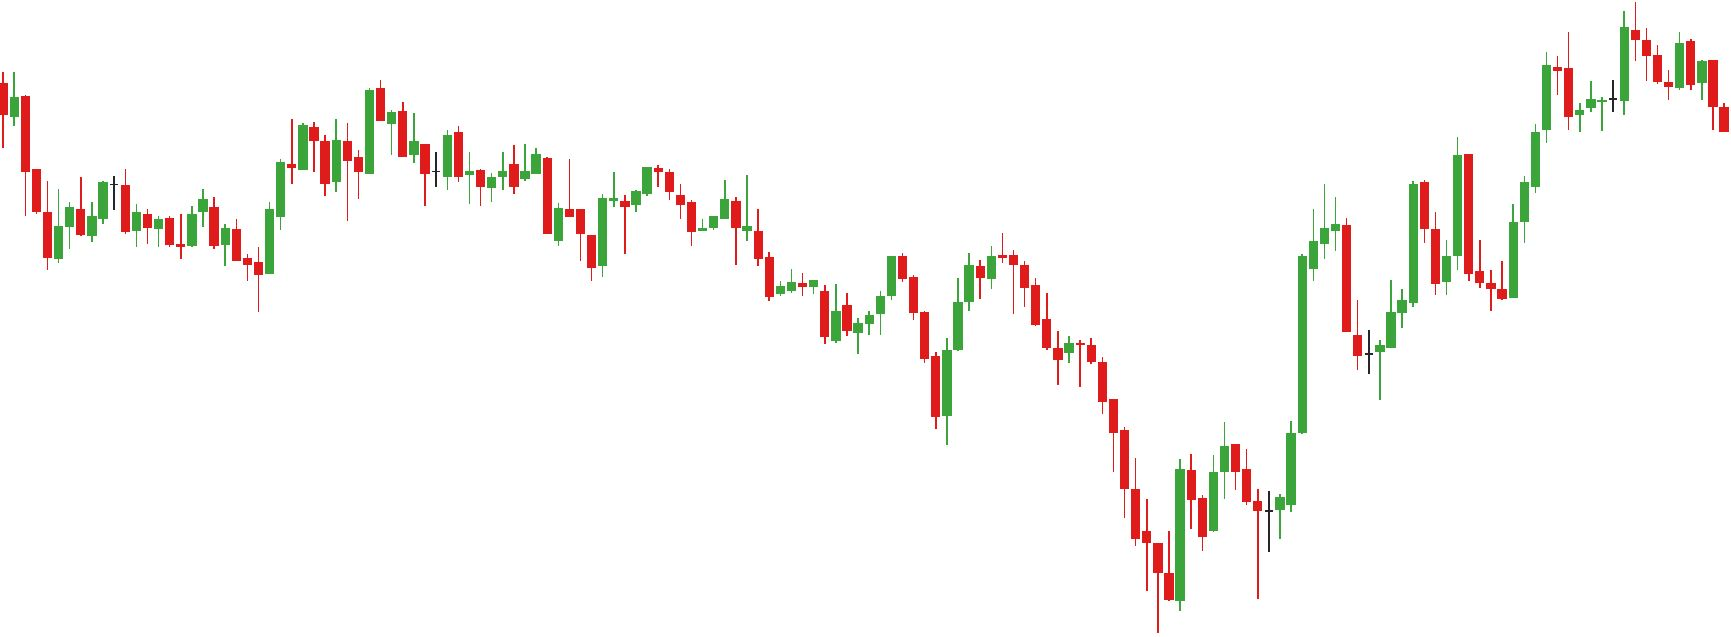buy: (853, 283, 955, 452), (1196, 470, 1285, 605), (1433, 195, 1521, 318)
sell: (288, 72, 389, 157)
